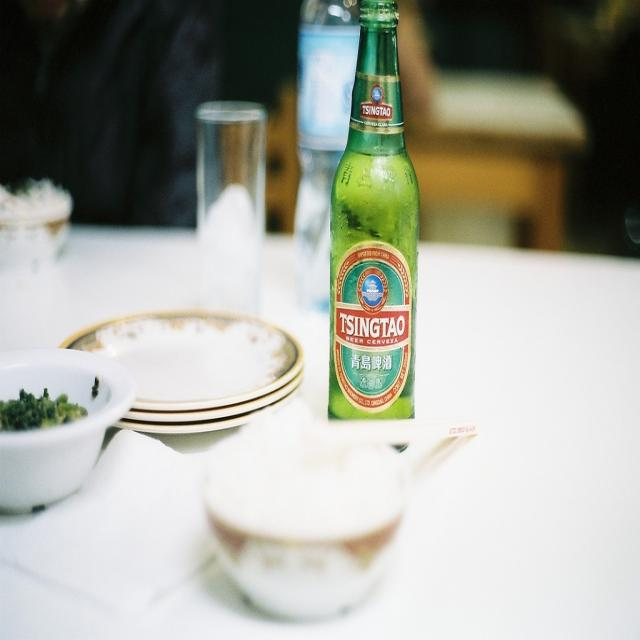tsingtao: (334, 238, 414, 411), (357, 87, 396, 123)
